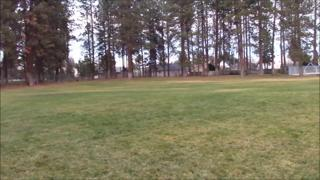UAV: (138, 60, 157, 67)
